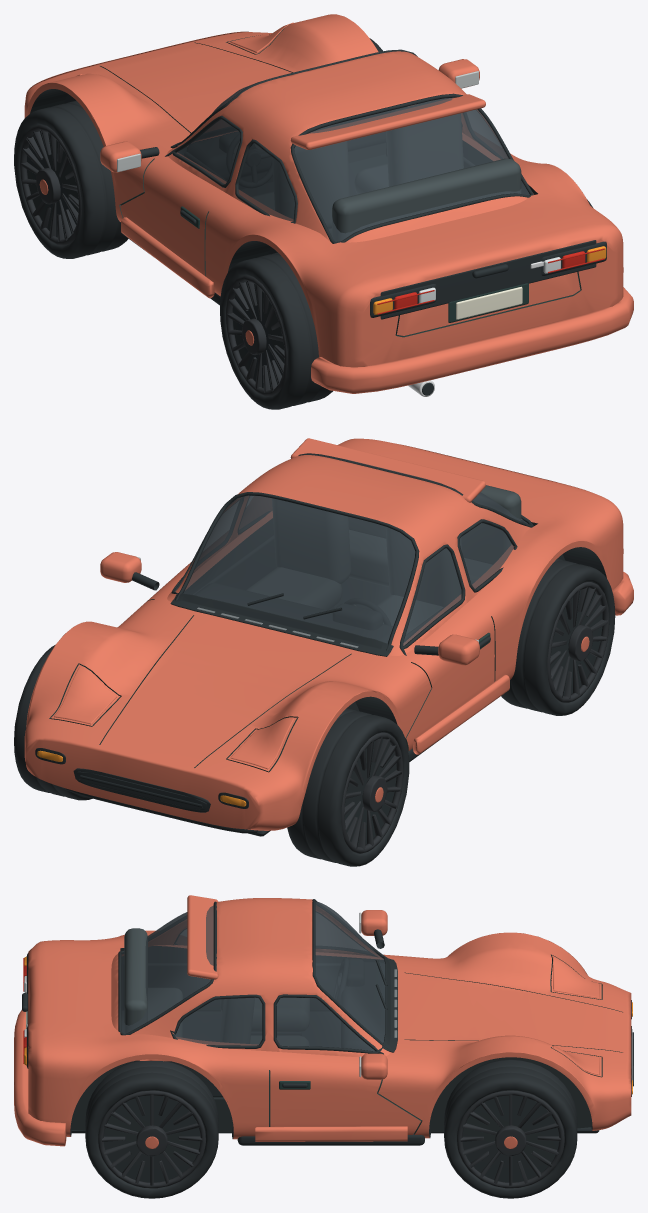
The model's file is yoru_lod1.fbx.
3 views of the same model, one above another, from view 1: azimuth 30°, elevation 25°; view 2: azimuth 150°, elevation 25°; view 3: azimuth 270°, elevation 25° (orthographic). The views are drawn at different scales.
Parts seen in each view (by area): view 1: Body, Wheel_FL_Mesh, Wheel_RL_Mesh; view 2: Body, Wheel_FL_Mesh, Wheel_RL_Mesh, Wheel_FR_Mesh; view 3: Body, Wheel_FR_Mesh, Wheel_RR_Mesh.
Boxes of the visible parts, bbox=[...] form: Body: bbox=[24, 14, 633, 396]; Wheel_FL_Mesh: bbox=[14, 100, 128, 258]; Wheel_RL_Mesh: bbox=[220, 252, 332, 409]; Body: bbox=[24, 438, 633, 836]; Wheel_FL_Mesh: bbox=[287, 708, 409, 866]; Wheel_RL_Mesh: bbox=[501, 558, 615, 715]; Wheel_FR_Mesh: bbox=[14, 645, 92, 800]; Body: bbox=[14, 895, 633, 1146]; Wheel_FR_Mesh: bbox=[444, 1059, 577, 1198]; Wheel_RR_Mesh: bbox=[85, 1061, 218, 1198].
Bounding box in the file's own units: 234 × 142 × 391.
